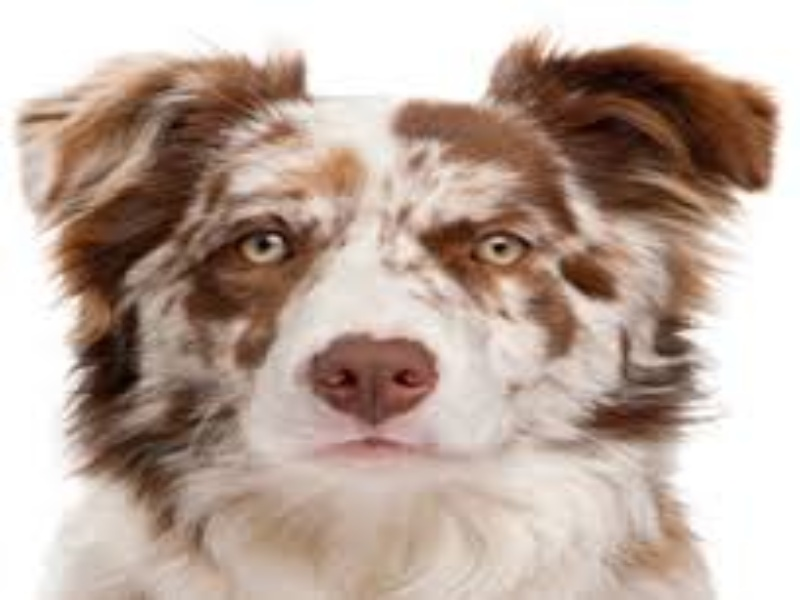dog: (9, 24, 789, 600)
